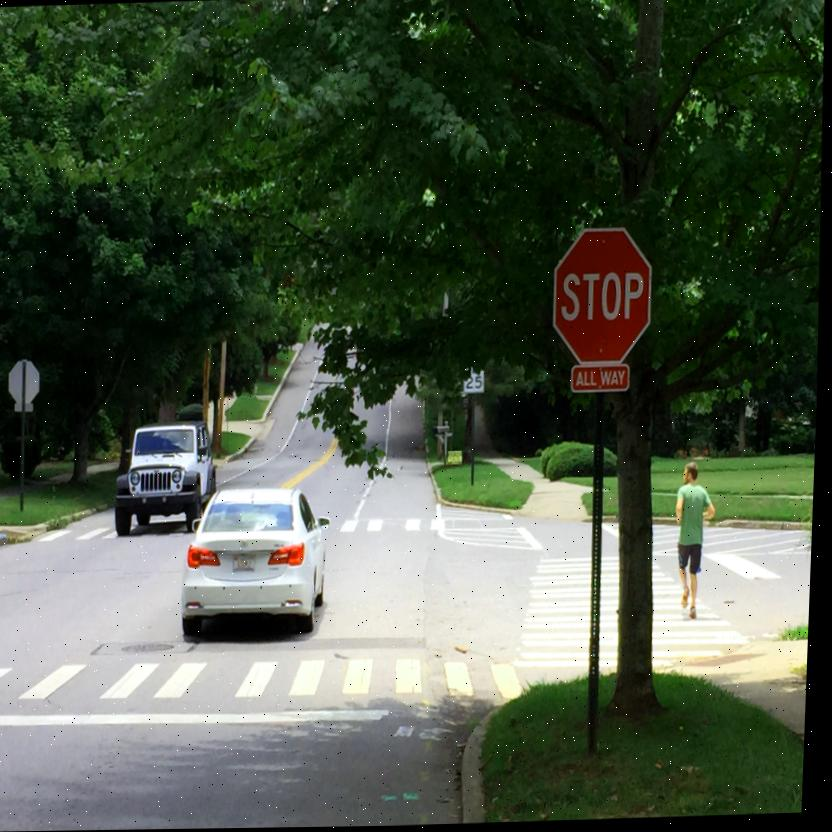Pole: (588, 394, 614, 750), (21, 409, 30, 513), (473, 397, 481, 485)
Sign: (551, 227, 657, 359), (10, 358, 44, 405)
